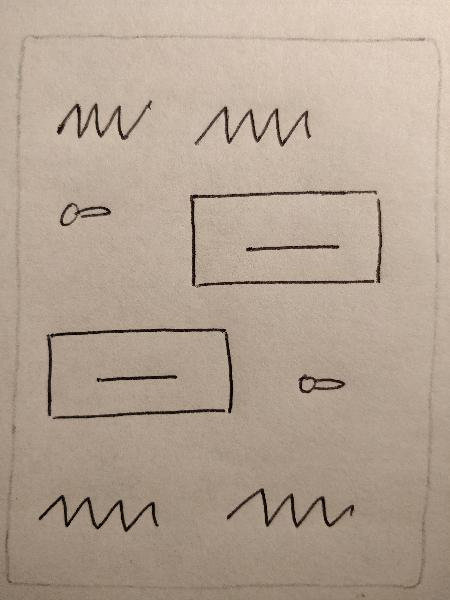button: (181, 182, 391, 297), (38, 322, 239, 425)
switch: (49, 190, 126, 236), (284, 362, 351, 403)
text: (216, 477, 366, 538), (187, 93, 317, 157), (33, 481, 165, 541), (49, 94, 159, 148)
